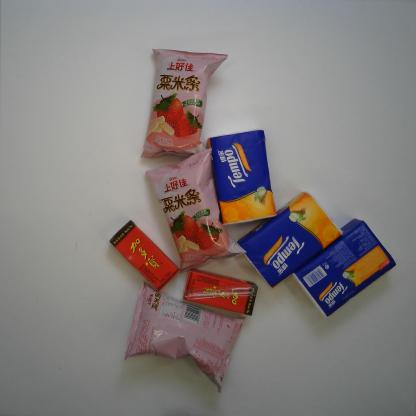Drink: (108, 219, 181, 292), (181, 268, 260, 316)
Puffed Food: (123, 278, 247, 394), (144, 146, 248, 276), (140, 48, 228, 159)
Tissue: (290, 216, 397, 320), (236, 190, 344, 290), (206, 129, 278, 226)
